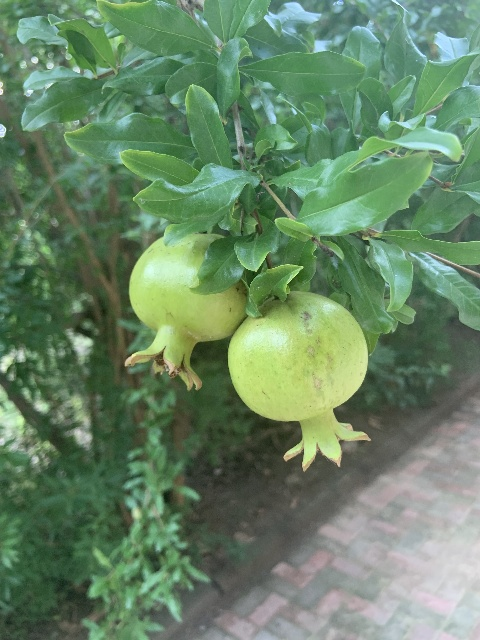mid-growth: (227, 290, 372, 473), (124, 233, 248, 392)
